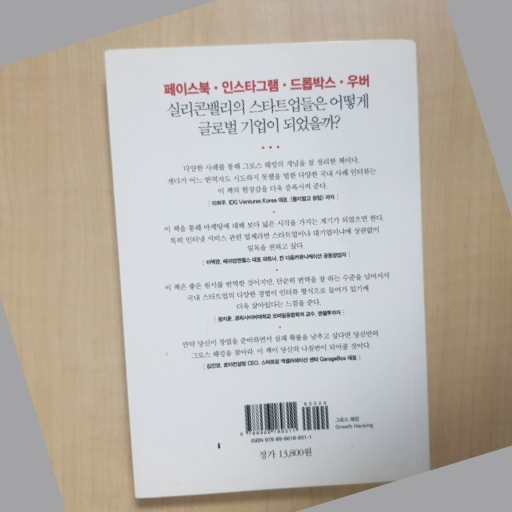Paper_0: (99, 38, 449, 496)
